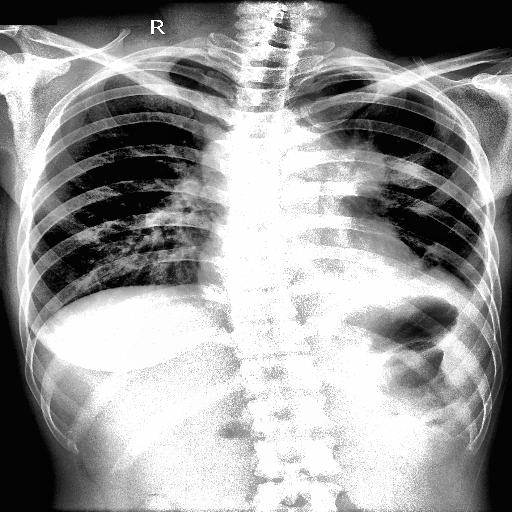0- Aortic enlargement: (269, 118, 340, 170)
10- Pleural effusion: (472, 265, 496, 311), (470, 272, 496, 300), (464, 282, 492, 302)
11- Pleural thickening: (472, 265, 496, 311), (470, 272, 496, 300), (464, 282, 492, 302), (422, 262, 448, 278)
4- Consolidation: (324, 143, 387, 195), (408, 244, 468, 296)
7- Lung Opacity: (319, 143, 388, 196), (408, 244, 468, 296), (389, 150, 441, 190), (202, 140, 233, 199), (198, 140, 232, 190), (394, 150, 433, 190)
8- Nodule-Mass: (319, 143, 388, 196), (324, 143, 387, 195), (324, 143, 385, 196), (198, 140, 232, 190), (392, 155, 442, 189)
9- Other lesion: (416, 254, 466, 288)
